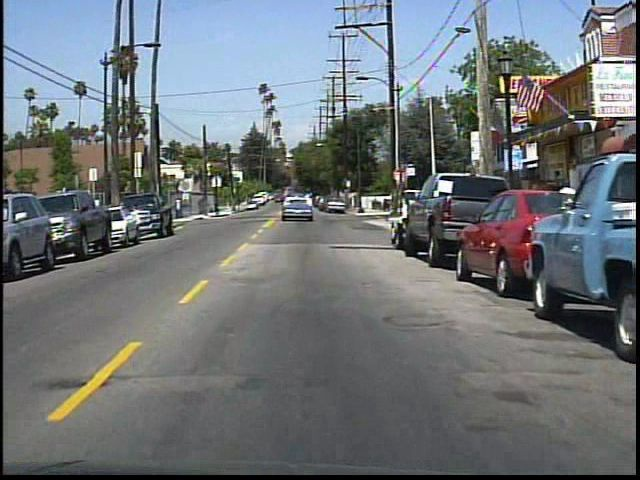person: (553, 176, 582, 244)
